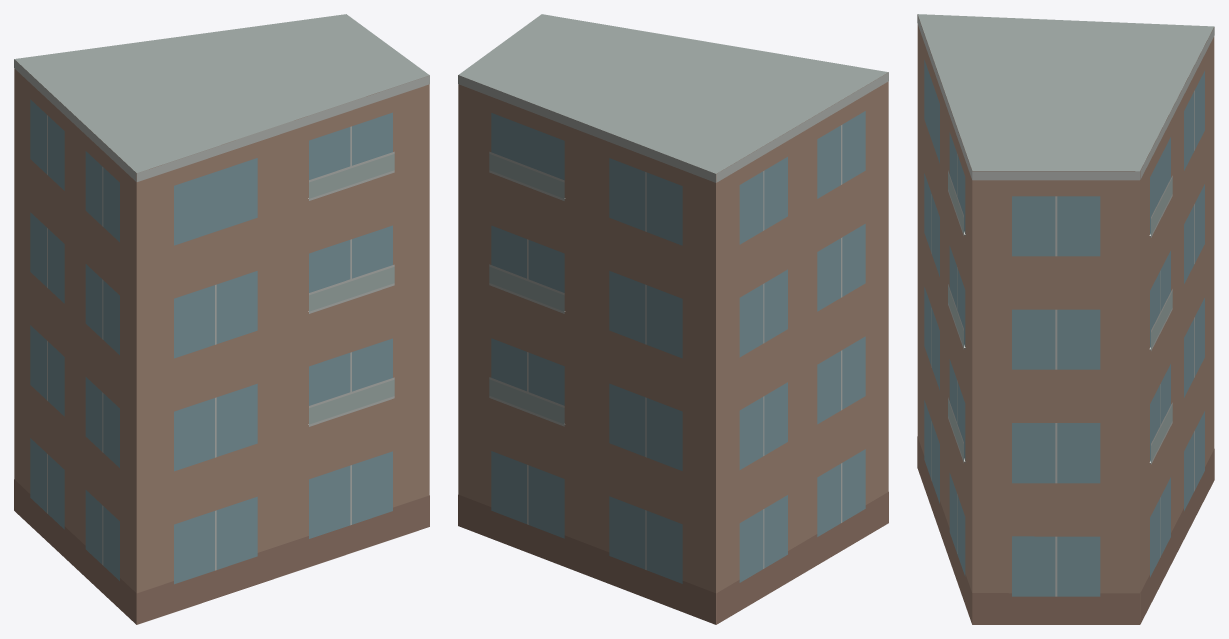
Rendered from survey-upis-32749983.glb.
3 renders of one model, left to right at view 1: azimuth 30°, elevation 25°; view 2: azimuth 150°, elevation 25°; view 3: azimuth 270°, elevation 25°, orthographic.
Visible parts, largest first — view 1: survey-upis-32749983.tmp; view 2: survey-upis-32749983.tmp; view 3: survey-upis-32749983.tmp.
Boxes of the visible parts, x1=… form: survey-upis-32749983.tmp: x1=14, y1=14, x2=429, y2=624; survey-upis-32749983.tmp: x1=458, y1=14, x2=888, y2=624; survey-upis-32749983.tmp: x1=917, y1=14, x2=1214, y2=624.
Size of the model in its own units: 9 by 12.1 by 7.18.
